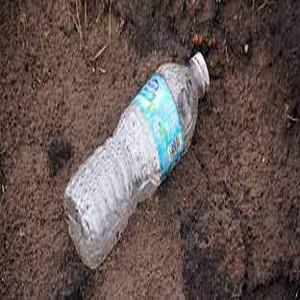Plastic: (64, 51, 213, 271)
